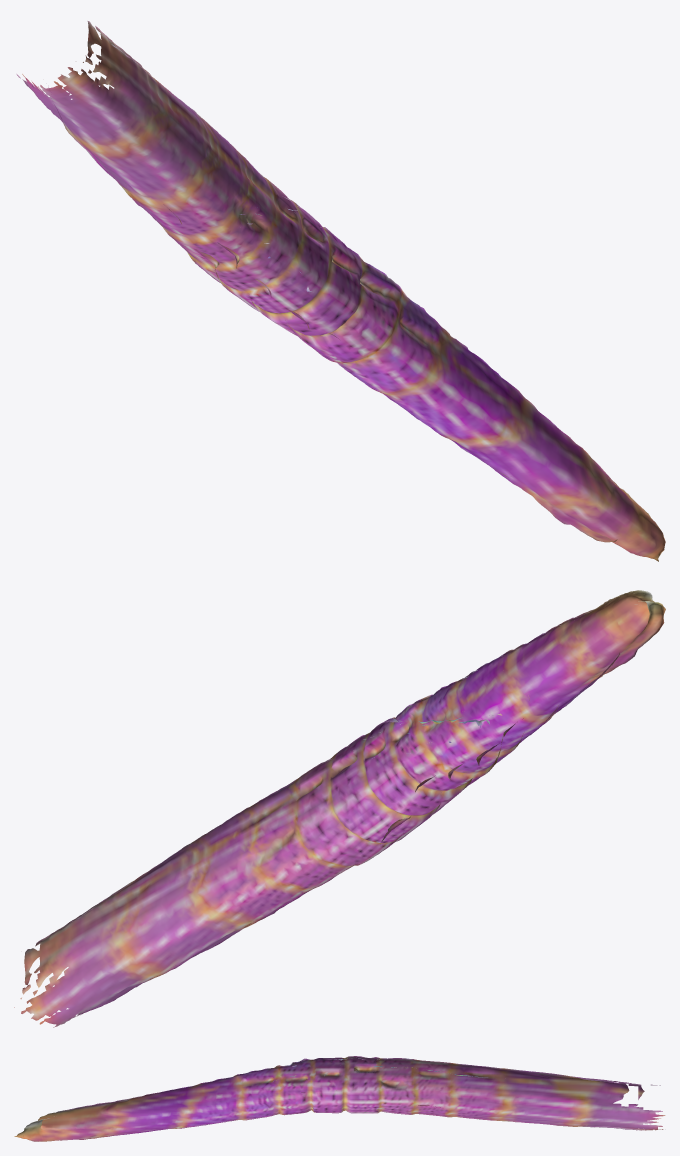
File: collider.glb
The picture shows the model from 3 angles, top to bottom: view 1: azimuth 30°, elevation 25°; view 2: azimuth 150°, elevation 25°; view 3: azimuth 270°, elevation 25°; orthographic projection. The views are drawn at different scales.
Parts seen in each view (by area): view 1: world; view 2: world; view 3: world.
Boxes of the visible parts, box(x1,y1,x2,y2) form: world: box(16, 21, 665, 561); world: box(14, 590, 665, 1027); world: box(14, 1056, 665, 1141).
Size of the model in its own units: 3.86 by 3.22 by 29.8.
